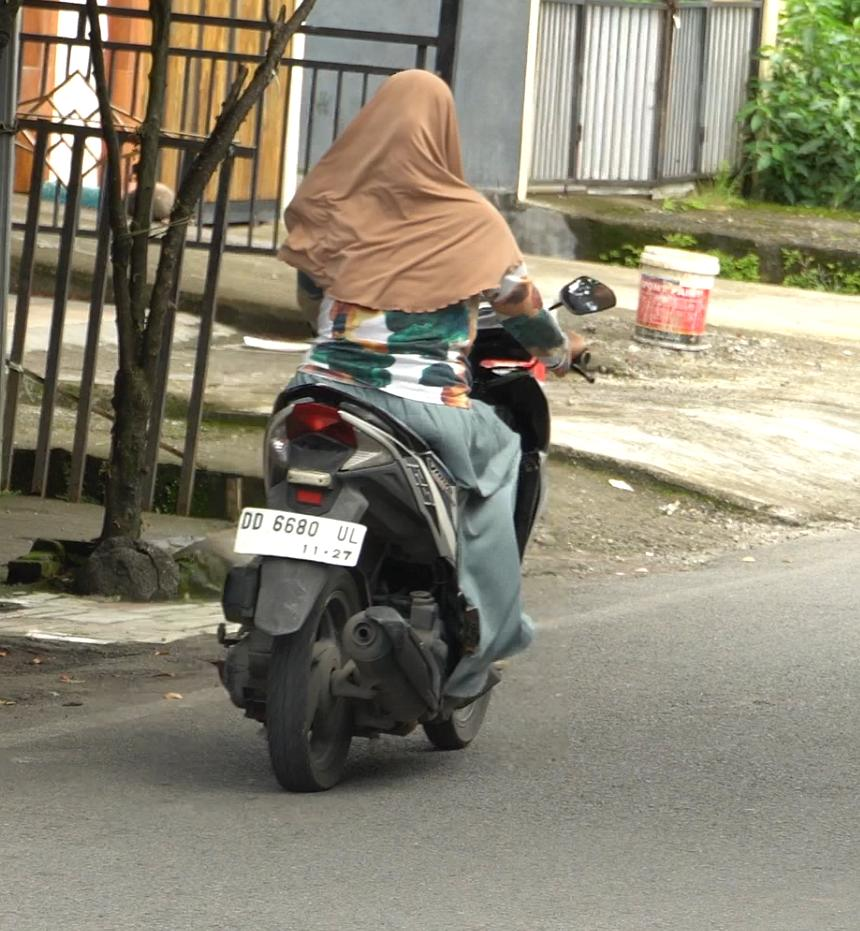number-plate: (231, 505, 367, 567)
